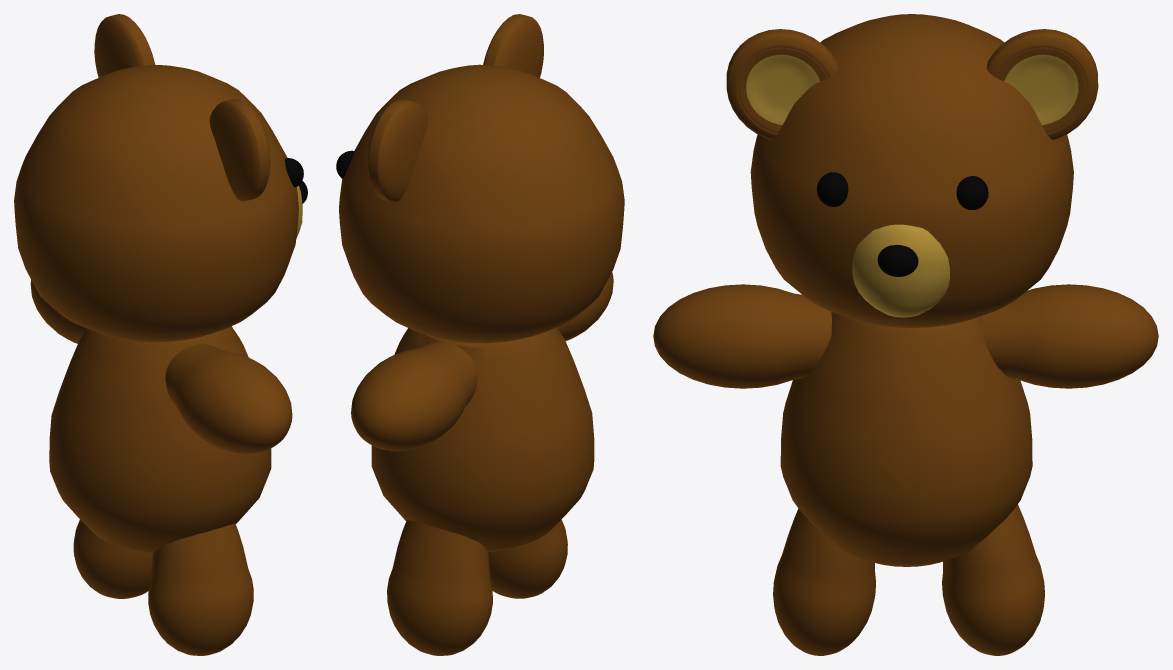
File: Bear.fbx
3 views of the same model, side by side, from view 1: azimuth 30°, elevation 25°; view 2: azimuth 150°, elevation 25°; view 3: azimuth 270°, elevation 25° (orthographic). The views are drawn at different scales.
Visible parts, largest first — view 1: FOOT RIGHT; view 2: FOOT RIGHT; view 3: FOOT RIGHT.
Boxes of the visible parts, x1,y1,x2,y2 form: FOOT RIGHT: (14, 14, 307, 655); FOOT RIGHT: (336, 14, 624, 655); FOOT RIGHT: (653, 14, 1158, 655).
Size of the model in its own units: 92.48 by 185 by 134.
